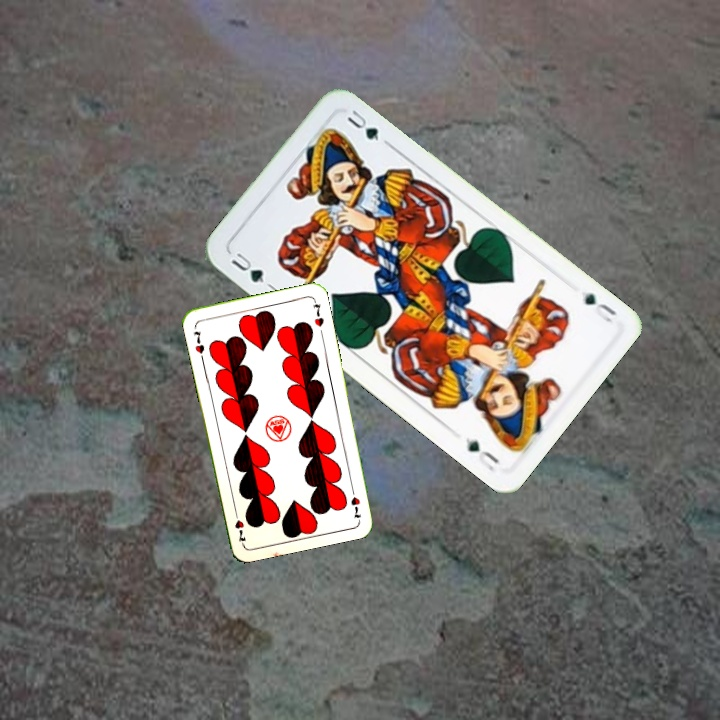GU: (227, 247, 267, 286), (580, 289, 620, 325)
H7: (347, 482, 364, 522), (189, 327, 207, 356)
